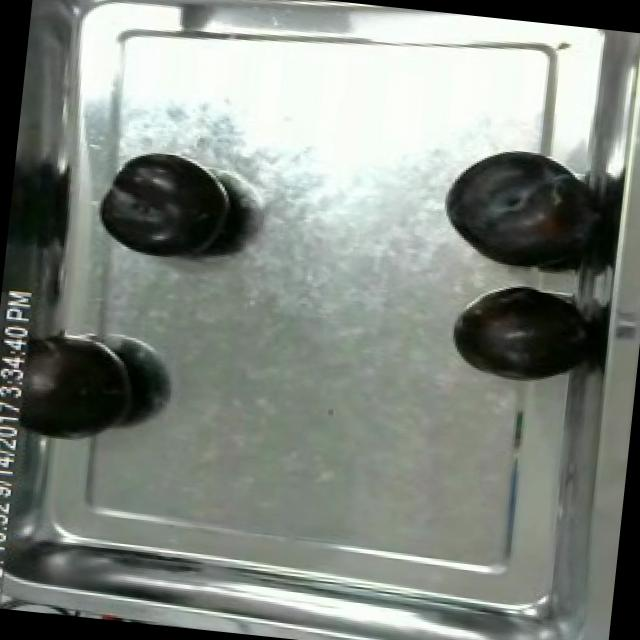Fruit: (433, 134, 605, 280), (87, 142, 250, 275), (442, 272, 588, 388)
